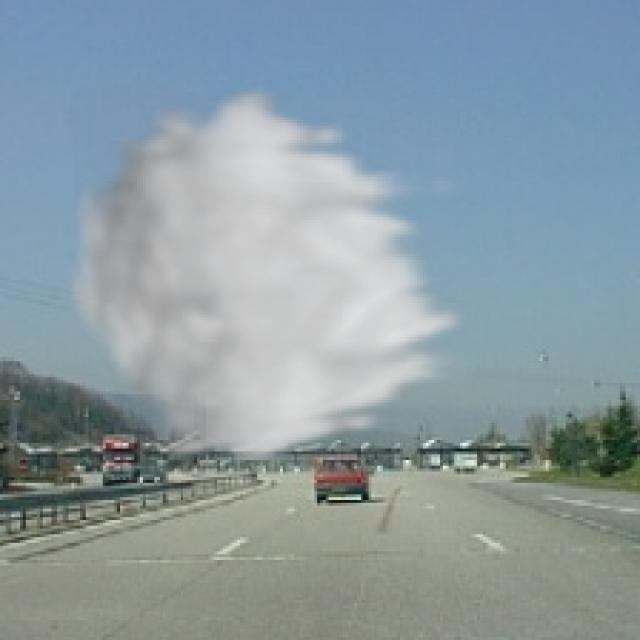Smoke: (60, 83, 480, 466)
